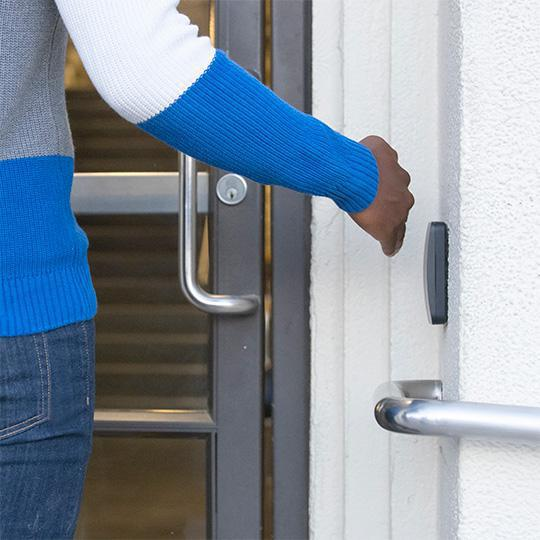doorhandle: (147, 76, 290, 318)
